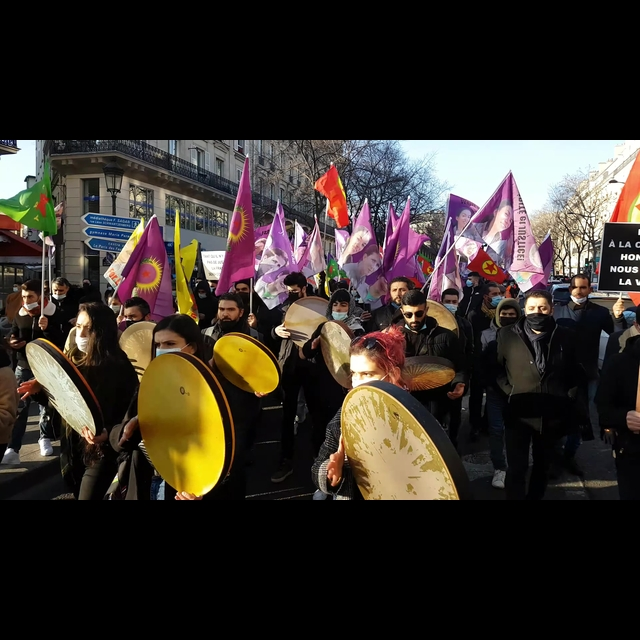PKK: (482, 258, 500, 276)
